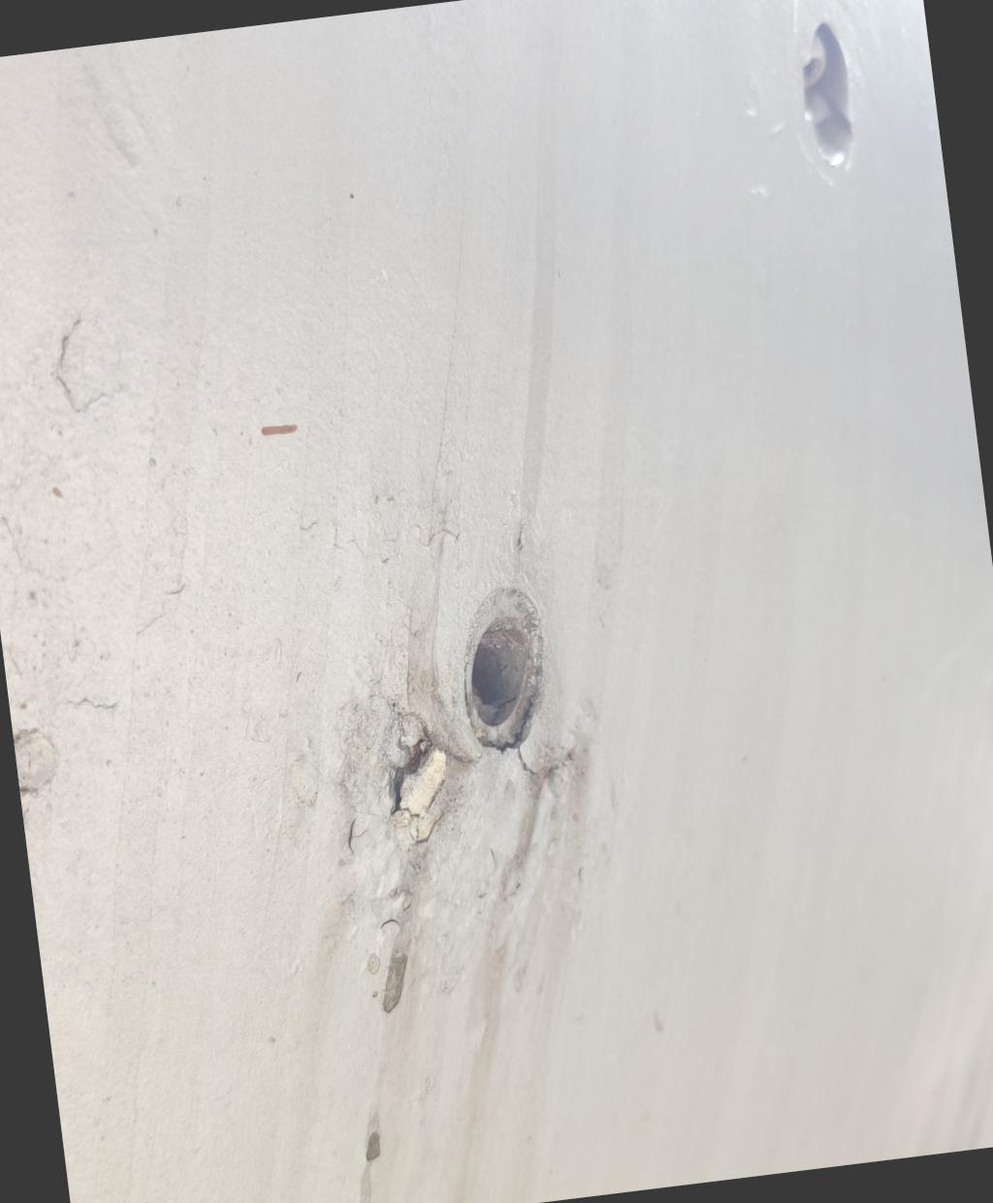crack: (349, 697, 495, 867)
